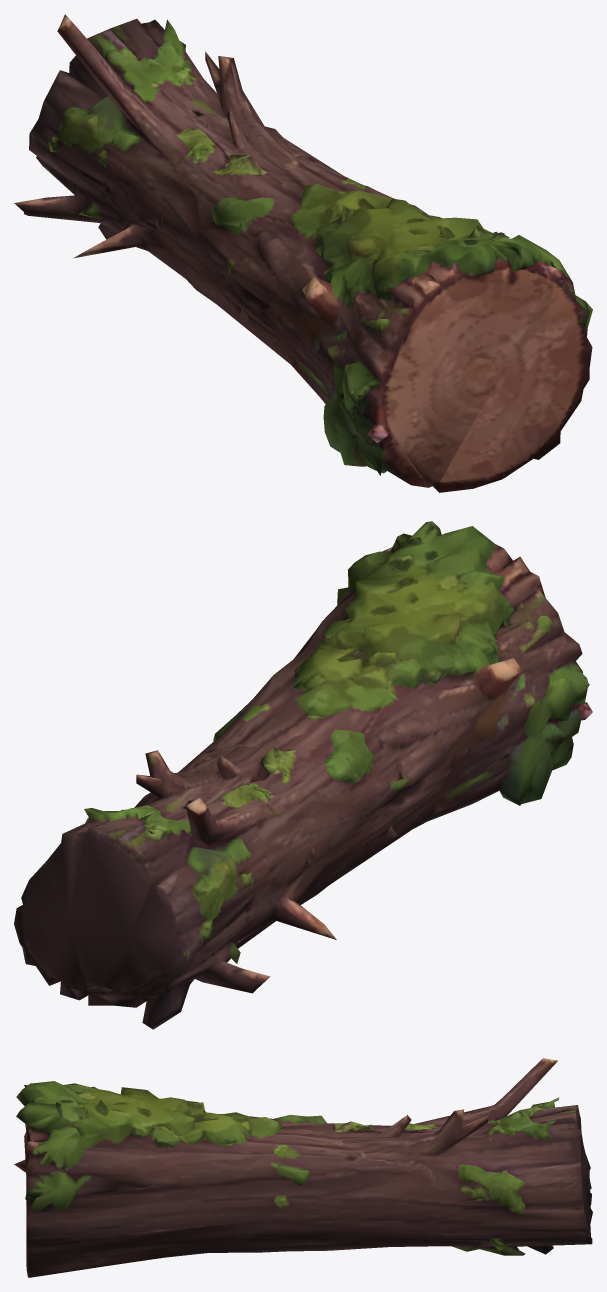
Rendered from kutuk_lod1.glb.
3 views of the same model, one above another, from view 1: azimuth 30°, elevation 25°; view 2: azimuth 150°, elevation 25°; view 3: azimuth 270°, elevation 25° (orthographic). The views are drawn at different scales.
Parts seen in each view (by area): view 1: kutuk_lod1; view 2: kutuk_lod1; view 3: kutuk_lod1.
Part boxes in pixels (bbox=[...]): kutuk_lod1: bbox=[14, 14, 592, 492]; kutuk_lod1: bbox=[14, 521, 592, 1029]; kutuk_lod1: bbox=[14, 1058, 592, 1277].
Bounding box in the file's own units: 1.17 × 1.04 × 3.01.
Materials: 1 (1 with a texture image).
